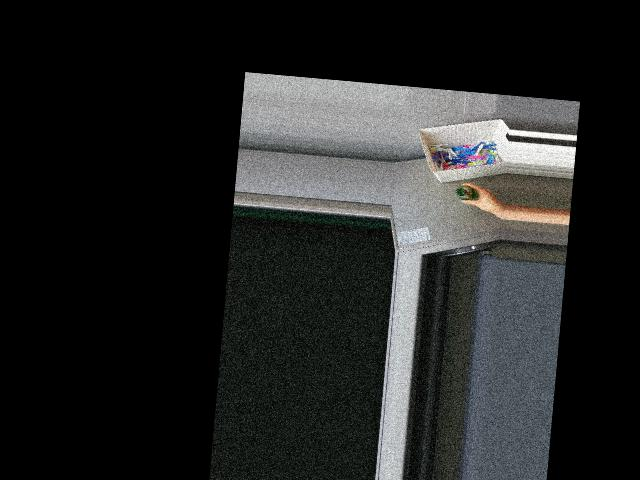beer: (455, 185, 477, 201)
